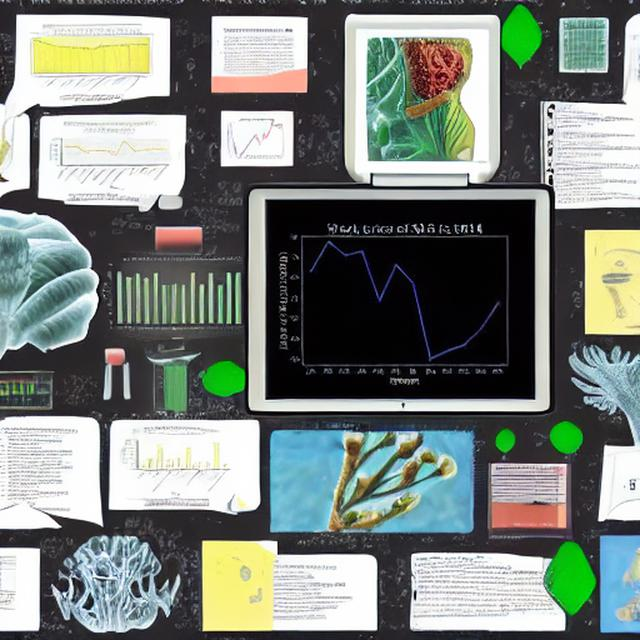Graph: (269, 200, 534, 399), (100, 255, 248, 342), (45, 118, 171, 192), (118, 427, 232, 495), (223, 113, 290, 163)
